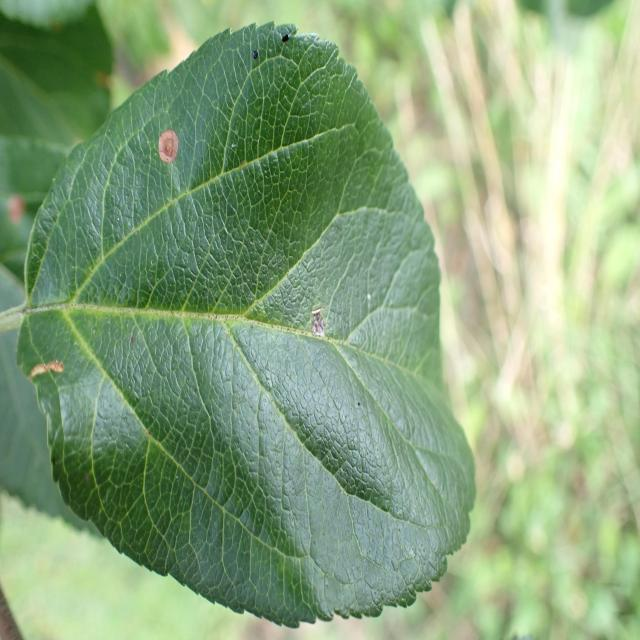Black Rot: (20, 345, 78, 401), (144, 123, 182, 188)
